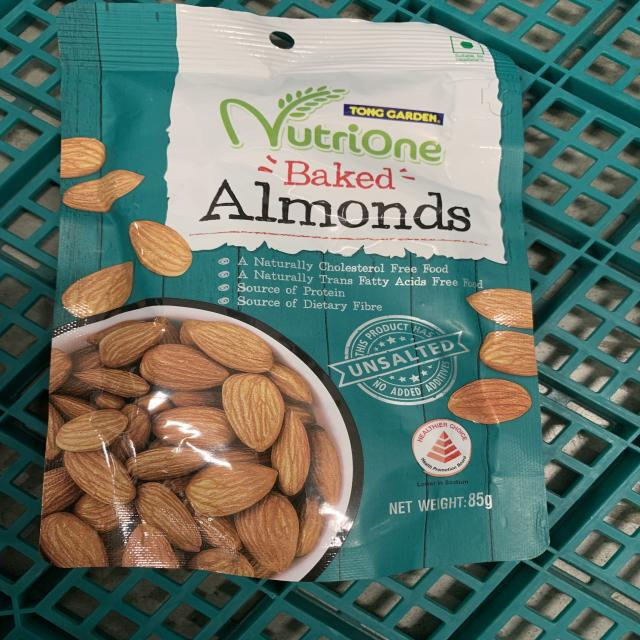object_name: (65, 11, 540, 563)
